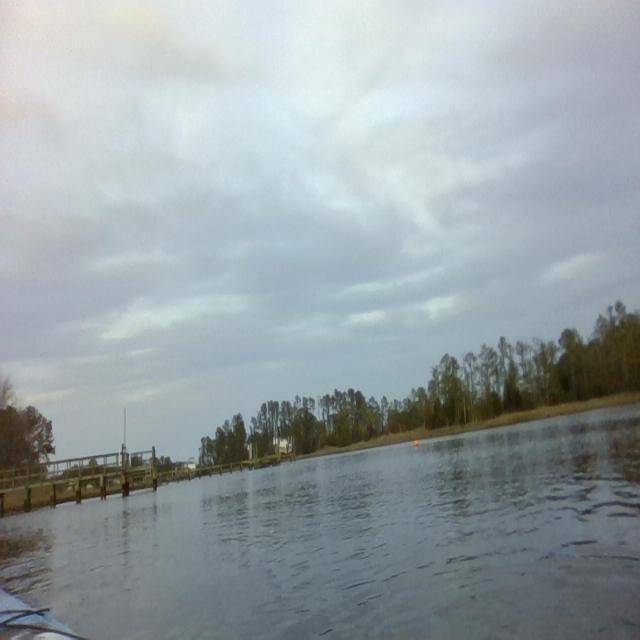Buoy: (414, 437, 419, 450)
